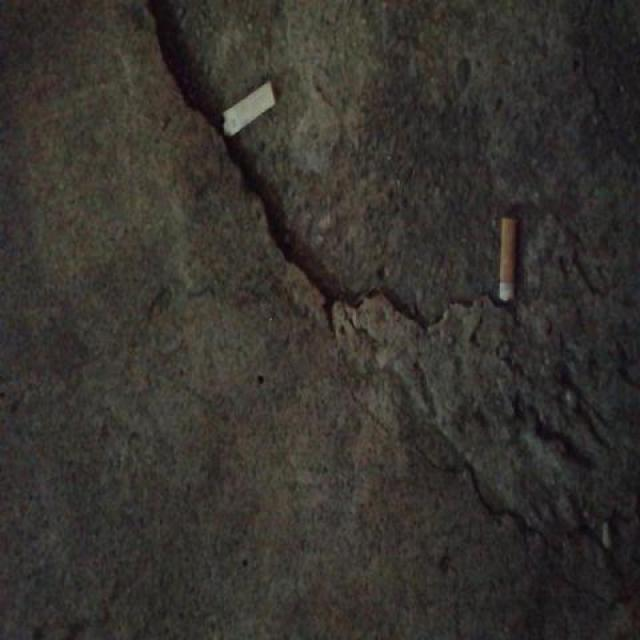non-organic waste: (217, 74, 279, 138), (494, 212, 518, 308)
